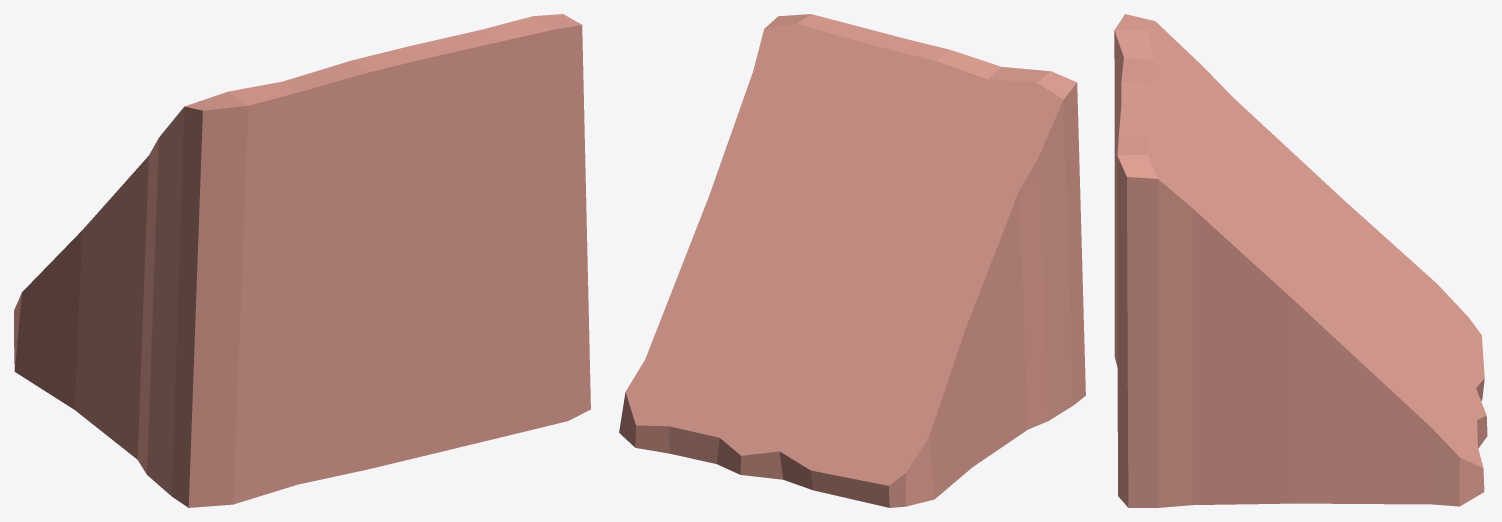
Rendered from SuperGrid_Stairs1.fbx.
3 renders of one model, left to right at view 1: azimuth 30°, elevation 25°; view 2: azimuth 150°, elevation 25°; view 3: azimuth 270°, elevation 25°, orthographic. The views are drawn at different scales.
Parts seen in each view (by area): view 1: SuperGrid_Stairs1; view 2: SuperGrid_Stairs1; view 3: SuperGrid_Stairs1.
Boxes of the visible parts, box(x1,y1,x2,y2) form: SuperGrid_Stairs1: box(14, 14, 590, 507); SuperGrid_Stairs1: box(619, 14, 1085, 507); SuperGrid_Stairs1: box(1114, 14, 1487, 507).
Bounding box in the file's own units: 106 × 99.94 × 101.
